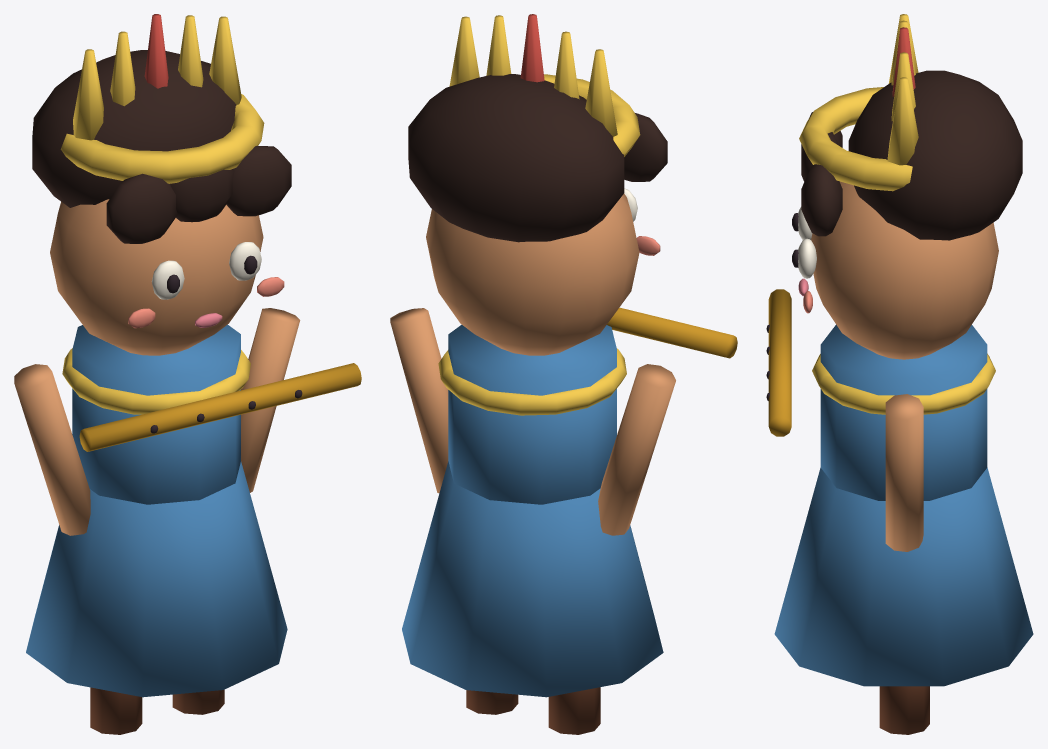
File: phra-aphai-mani.glb
3 views of the same model, side by side, from view 1: azimuth 30°, elevation 25°; view 2: azimuth 150°, elevation 25°; view 3: azimuth 270°, elevation 25° (orthographic). The views are drawn at different scales.
Visible parts, largest first — view 1: phra_aphai_robe, phra_aphai_head, phra_aphai_torso, phra_aphai_hair_back, phra_aphai_crown_band, phra_aphai_arm_-1, phra_aphai_flute, phra_aphai_arm_1, phra_aphai_fringe_0, phra_aphai_belt, phra_aphai_fringe_2, phra_aphai_fringe_1 (+9 smaller); view 2: phra_aphai_robe, phra_aphai_hair_back, phra_aphai_torso, phra_aphai_head, phra_aphai_arm_-1, phra_aphai_arm_1, phra_aphai_belt, phra_aphai_flute, phra_aphai_leg_-1, phra_aphai_fringe_0, phra_aphai_crown_spire_-2, phra_aphai_crown_band (+5 smaller); view 3: phra_aphai_robe, phra_aphai_head, phra_aphai_hair_back, phra_aphai_torso, phra_aphai_arm_1, phra_aphai_crown_band, phra_aphai_flute, phra_aphai_belt, phra_aphai_leg_1, phra_aphai_fringe_2, phra_aphai_crown_spire_2, phra_aphai_eye_white_1 (+2 smaller).
Boxes of the visible parts, x1,y1,x2,y2 form: phra_aphai_robe: [26, 461, 287, 697]; phra_aphai_head: [50, 199, 263, 355]; phra_aphai_torso: [72, 324, 240, 504]; phra_aphai_hair_back: [32, 50, 236, 207]; phra_aphai_crown_band: [60, 94, 264, 183]; phra_aphai_arm_-1: [14, 364, 90, 535]; phra_aphai_flute: [79, 363, 361, 451]; phra_aphai_arm_1: [241, 308, 300, 492]; phra_aphai_fringe_0: [106, 173, 177, 243]; phra_aphai_belt: [62, 348, 250, 414]; phra_aphai_fringe_2: [226, 146, 291, 216]; phra_aphai_fringe_1: [170, 169, 234, 222]; phra_aphai_robe: [402, 461, 663, 697]; phra_aphai_hair_back: [408, 74, 624, 242]; phra_aphai_torso: [448, 324, 616, 504]; phra_aphai_head: [426, 193, 639, 355]; phra_aphai_arm_-1: [598, 364, 675, 535]; phra_aphai_arm_1: [390, 308, 448, 493]; phra_aphai_belt: [438, 348, 626, 415]; phra_aphai_flute: [607, 307, 737, 358]; phra_aphai_leg_-1: [548, 687, 600, 734]; phra_aphai_fringe_0: [624, 113, 667, 181]; phra_aphai_crown_spire_-2: [585, 49, 617, 136]; phra_aphai_crown_band: [544, 74, 640, 156]; phra_aphai_robe: [774, 467, 1033, 686]; phra_aphai_head: [811, 181, 998, 359]; phra_aphai_hair_back: [848, 70, 1022, 240]; phra_aphai_torso: [820, 324, 987, 500]; phra_aphai_arm_1: [885, 394, 923, 551]; phra_aphai_crown_band: [799, 87, 912, 191]; phra_aphai_flute: [768, 289, 791, 436]; phra_aphai_belt: [812, 353, 995, 414]; phra_aphai_leg_1: [879, 686, 929, 734]; phra_aphai_fringe_2: [801, 164, 842, 236]; phra_aphai_crown_spire_2: [887, 77, 918, 165]; phra_aphai_eye_white_1: [798, 238, 816, 278].
Size of the model in its own units: 1.09 by 2.59 by 0.928.
